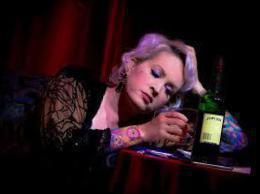Drunk: (135, 52, 181, 108)
